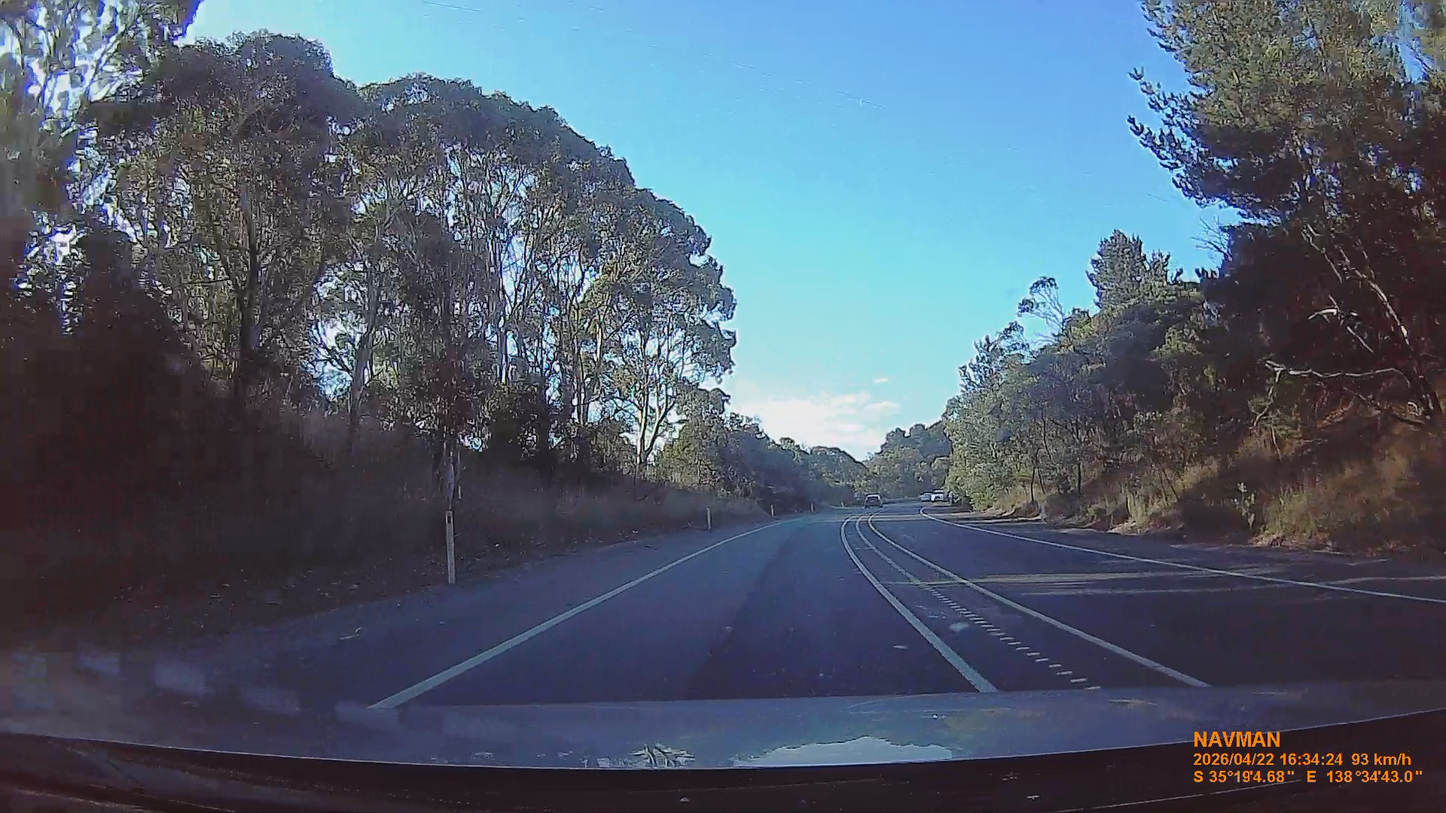fences: (442, 514, 460, 584), (706, 506, 711, 531)
